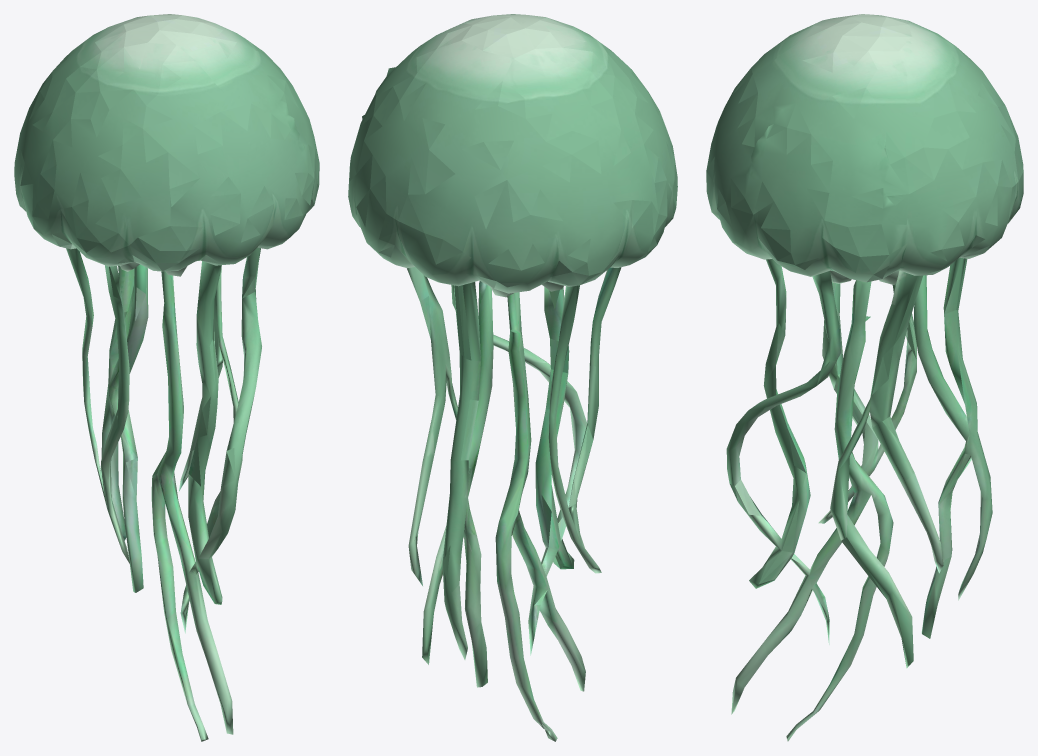
Rendered from medusa.obj.
The picture shows the model from 3 angles, left to right: view 1: azimuth 30°, elevation 25°; view 2: azimuth 150°, elevation 25°; view 3: azimuth 270°, elevation 25°; orthographic projection. The views are drawn at different scales.
Visible parts, largest first — view 1: tripo_node_8943f409-42d9-4607-b295-2ac65578cea8; view 2: tripo_node_8943f409-42d9-4607-b295-2ac65578cea8; view 3: tripo_node_8943f409-42d9-4607-b295-2ac65578cea8.
Boxes of the visible parts, x1,y1,x2,y2 form: tripo_node_8943f409-42d9-4607-b295-2ac65578cea8: (14, 14, 319, 741); tripo_node_8943f409-42d9-4607-b295-2ac65578cea8: (348, 14, 677, 741); tripo_node_8943f409-42d9-4607-b295-2ac65578cea8: (706, 14, 1023, 741).
Size of the model in its own units: 0.4033 by 0.9994 by 0.4028.
Materials: 1 (1 with a texture image).
